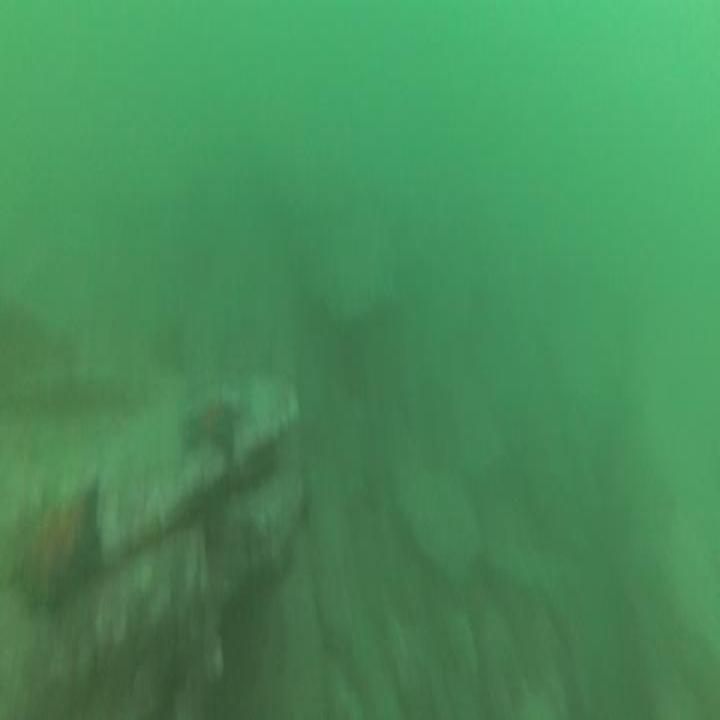starfish: (0, 476, 110, 622), (179, 394, 246, 466)
